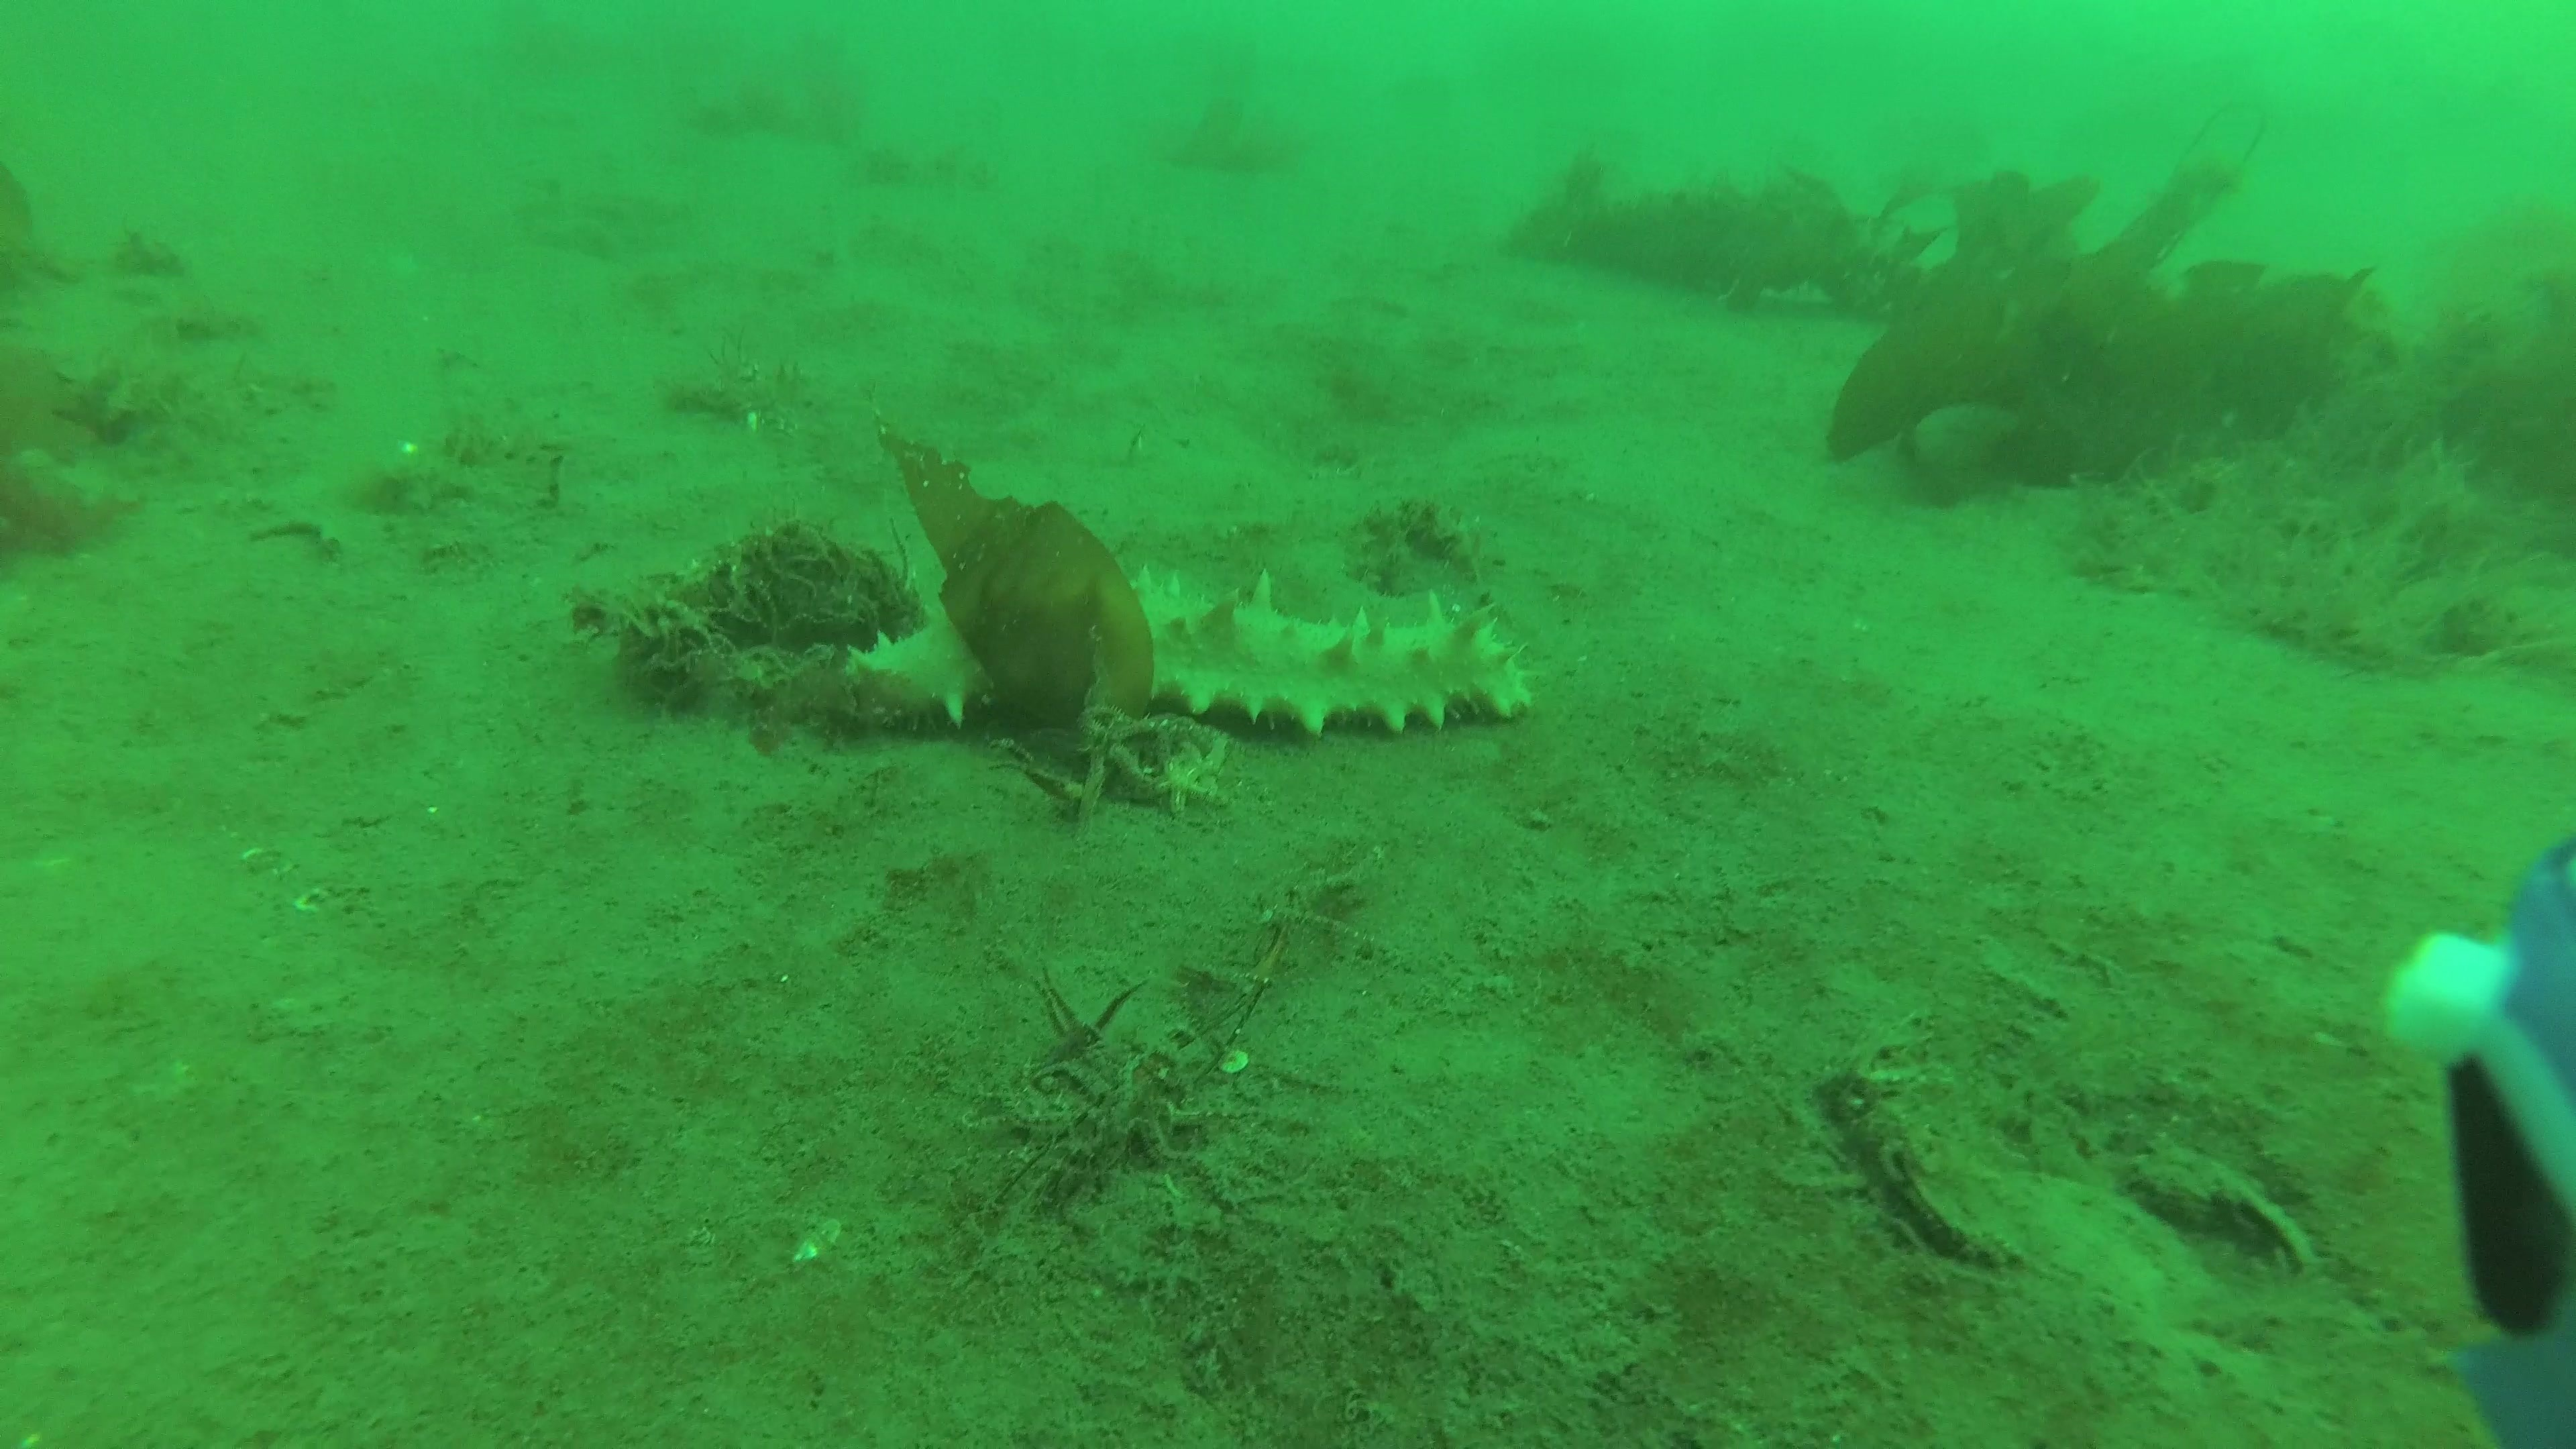holothurian: (839, 566, 1534, 738)
